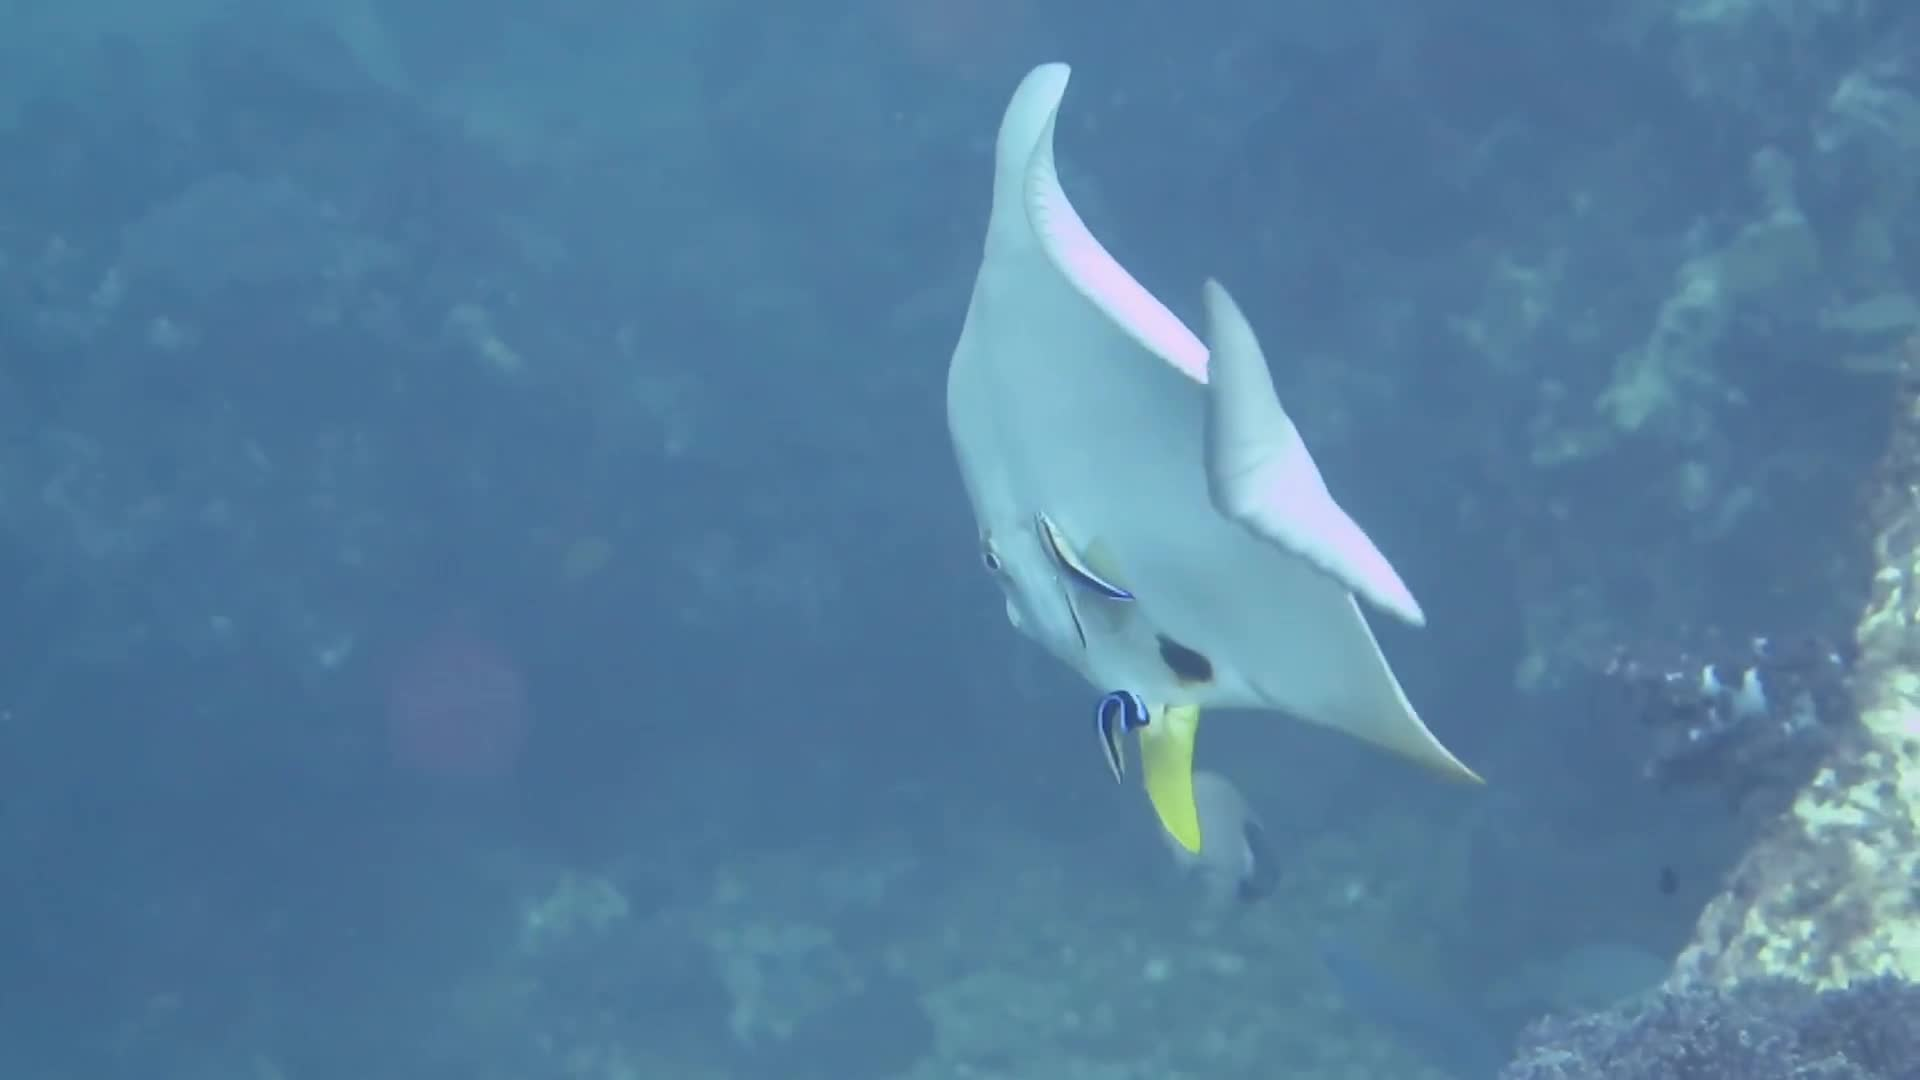Platax teira: (874, 70, 1553, 940)
